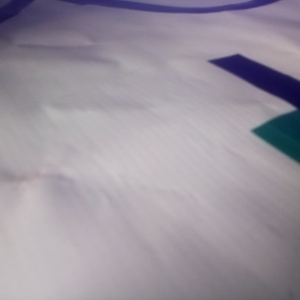top_right: (27, 193, 204, 300)
